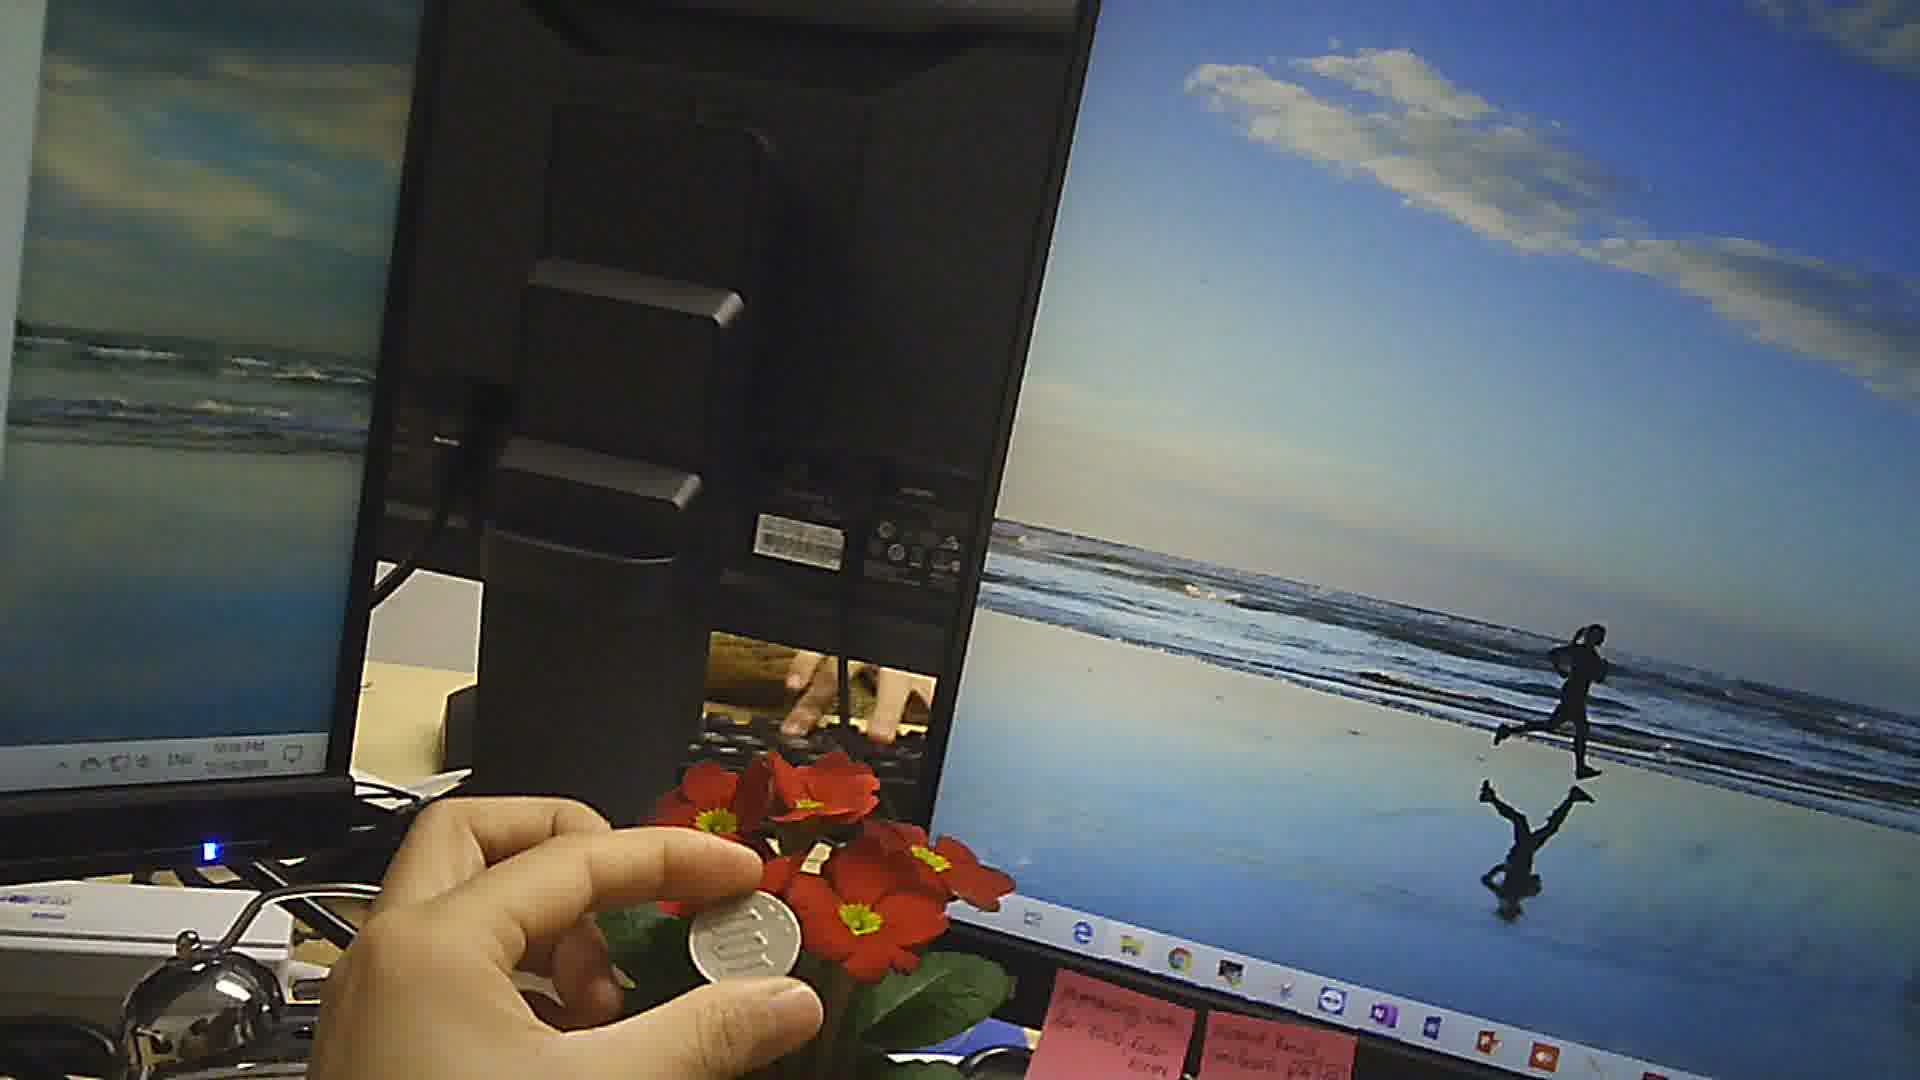100 Yen: (674, 886, 818, 993)
